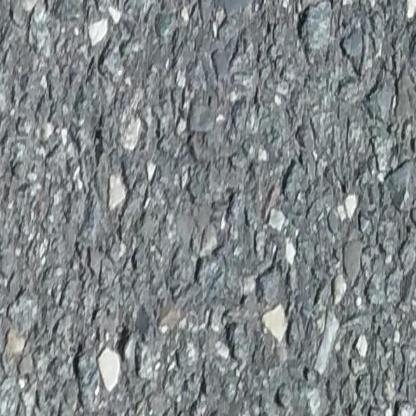Cracks: (389, 400, 416, 416)
